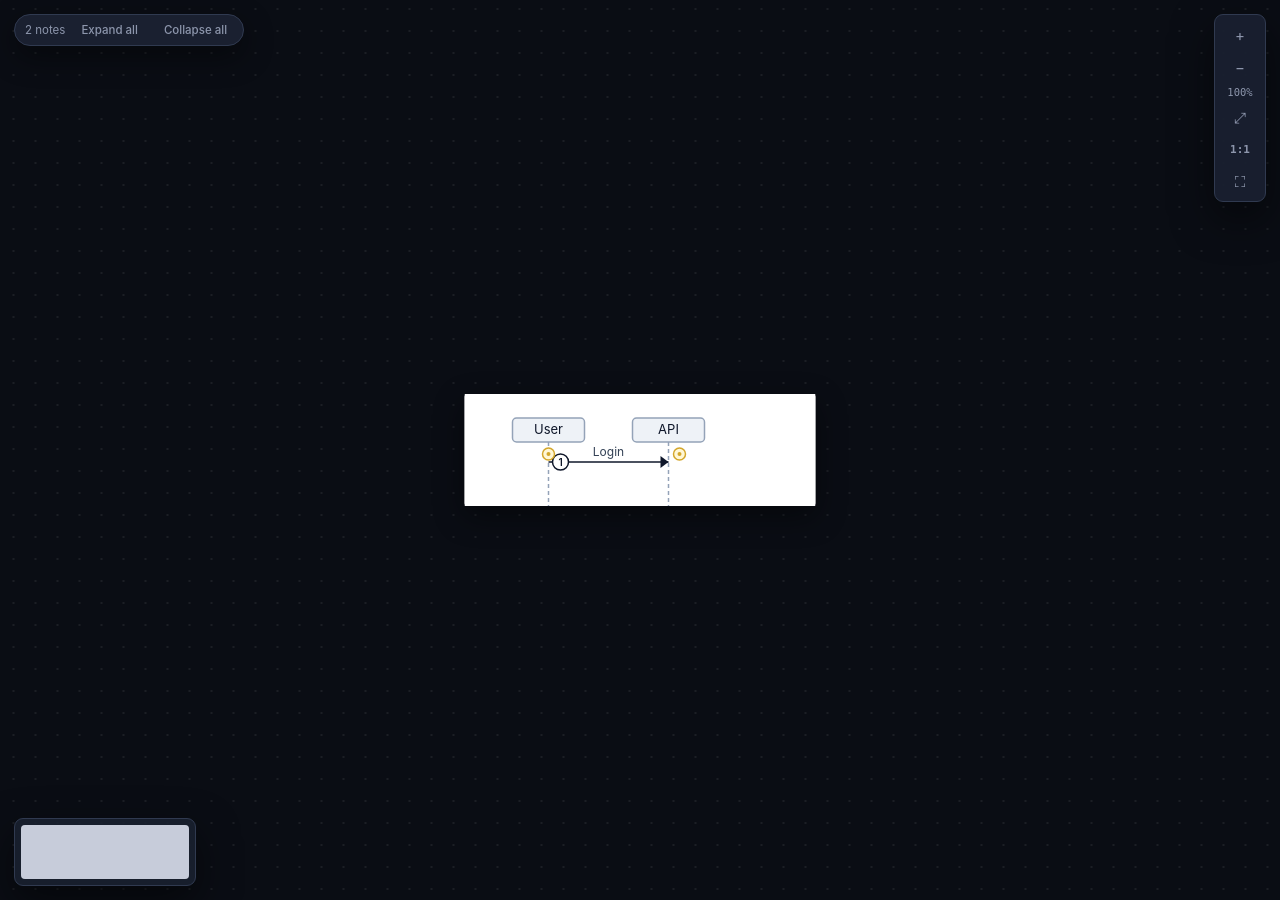
Test: Preview — notes as bullets › expands and collapses every note from the toolbar
Click the button with test id "expand-notes-button" at (110, 30), box [71,19,148,41]
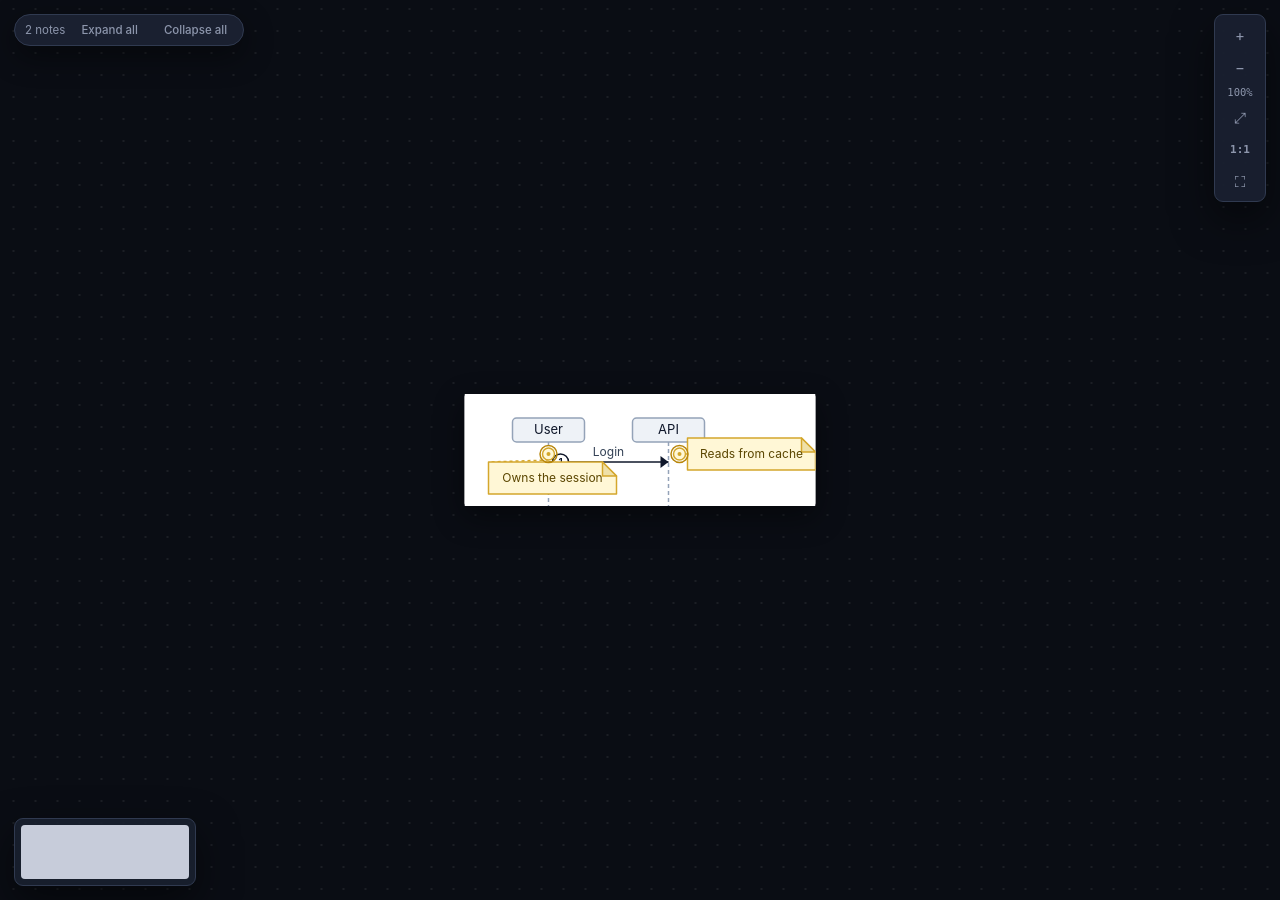
Expected: the text "Reads from cache" is shown, [700,446,803,461]
Expected: the text "Owns the session" is shown, [502,470,603,485]
Click the button with test id "collapse-notes-button" at (196, 30), box [154,19,237,41]
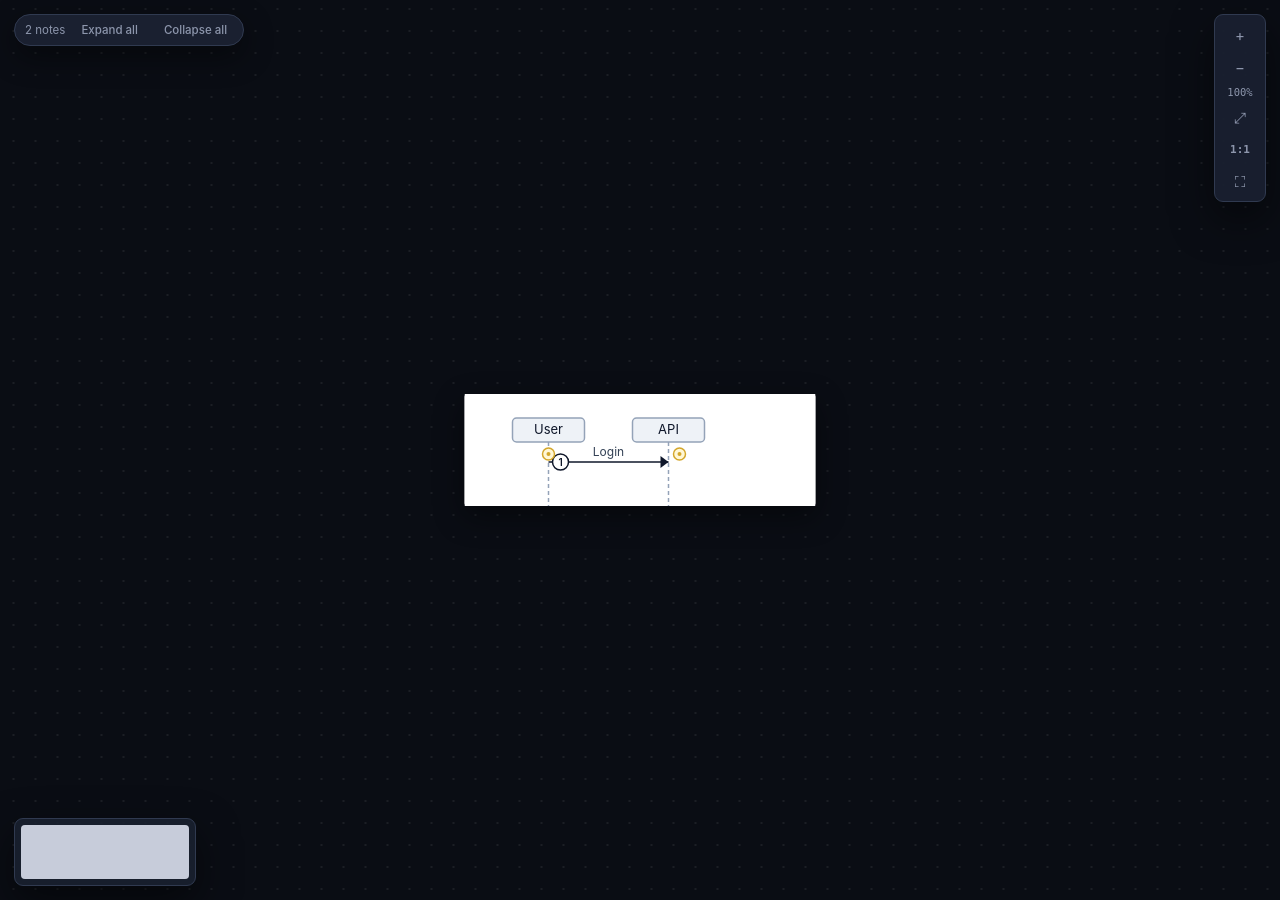
Result: the icon "Reads from cache" is gone
Result: the icon "Owns the session" is gone
